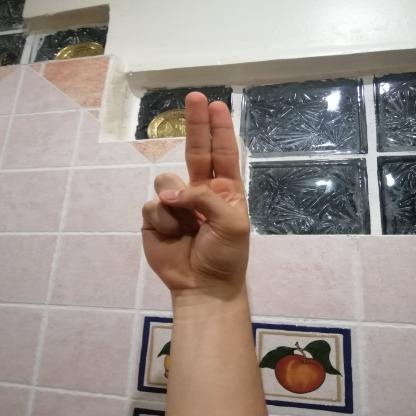TA: (116, 81, 289, 305)
